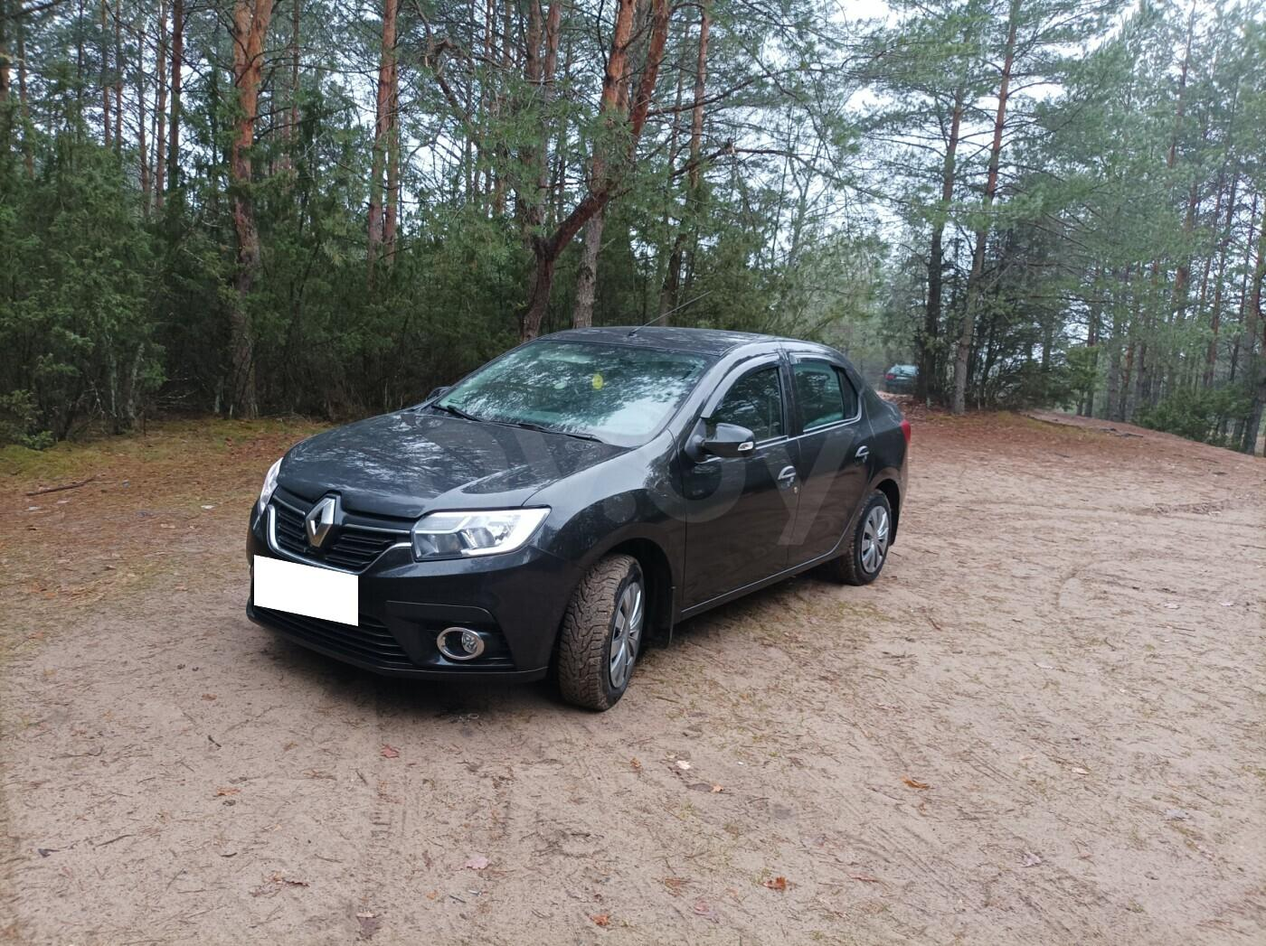Logan_2018: (243, 321, 921, 719)
